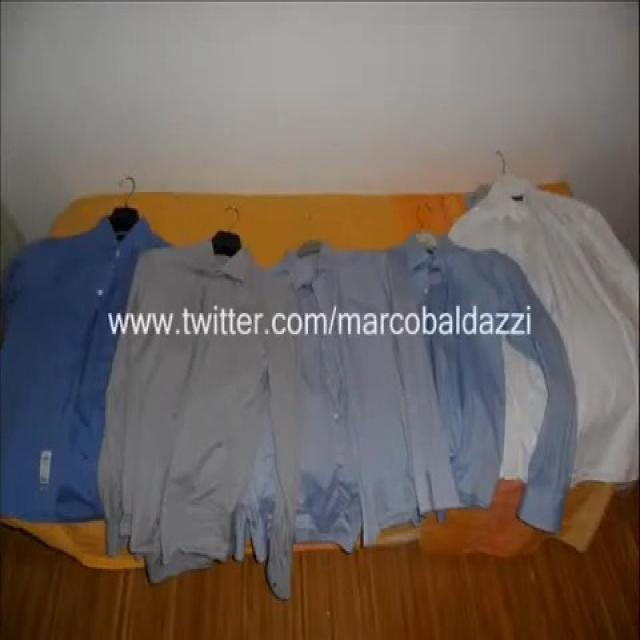Shirt: (231, 238, 463, 564), (96, 233, 297, 602), (445, 178, 640, 493), (0, 211, 180, 524), (400, 236, 578, 536)
